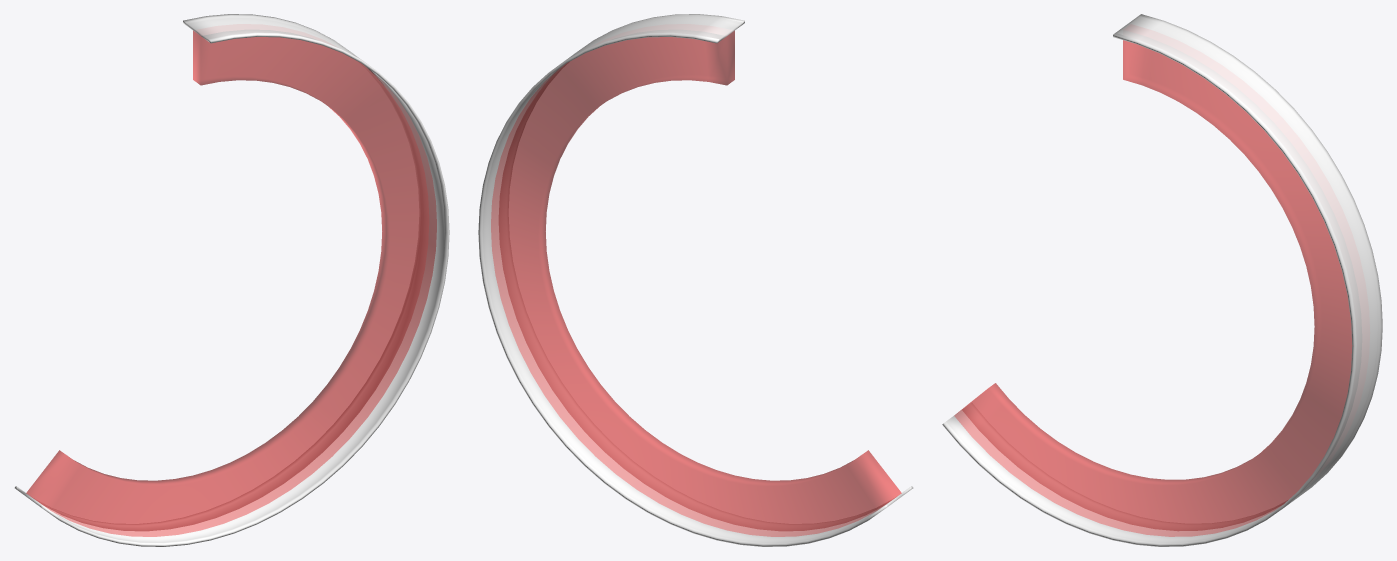
Rendered from FlickNote10.fbx.
3 views of the same model, side by side, from view 1: azimuth 30°, elevation 25°; view 2: azimuth 150°, elevation 25°; view 3: azimuth 330°, elevation 25° (orthographic).
Visible parts, largest first — view 1: FlickNote10; view 2: FlickNote10; view 3: FlickNote10.
Boxes of the visible parts, box(x1,y1,x2,y2) form: FlickNote10: box(14, 14, 449, 546); FlickNote10: box(478, 14, 913, 546); FlickNote10: box(942, 14, 1382, 546).
Bounding box in the file's own units: 169 × 20 × 198.
